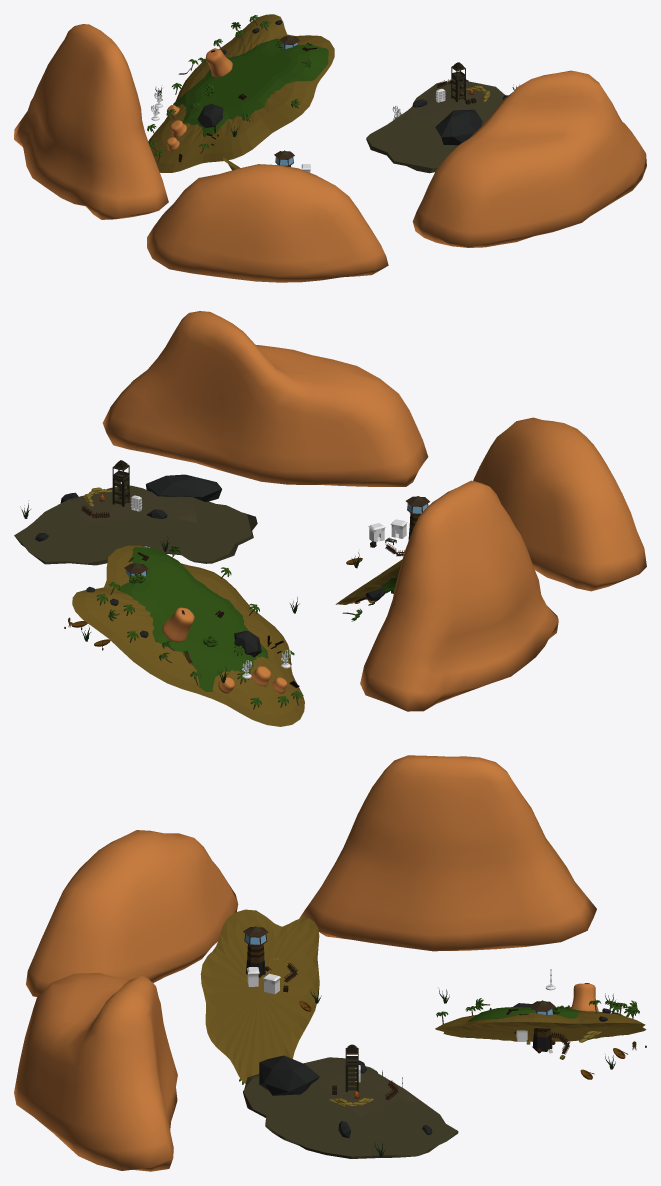
File: isla tropical.fbx
The picture shows the model from 3 angles, top to bottom: view 1: azimuth 30°, elevation 25°; view 2: azimuth 150°, elevation 25°; view 3: azimuth 270°, elevation 25°; orthographic projection. The views are drawn at different scales.
Visible parts, largest first — view 1: Montañas, Isla3, Isla1, roca005, Monticulo002, Torre de Madera, roca011; view 2: Montañas, Isla3, Isla1, Monticulo002, roca005, Isla2, Torre de Madera; view 3: Montañas, Isla2, Isla1, Isla3, roca005, Torre, Torre001, Monticulo002, Torre de Madera.
Part boxes in pixels (x1=…): Montañas: x1=14, y1=24, x2=646, y2=282; Isla3: x1=148, y1=14, x2=334, y2=172; Isla1: x1=366, y1=81, x2=505, y2=173; roca005: x1=435, y1=109, x2=482, y2=145; Monticulo002: x1=166, y1=48, x2=232, y2=150; Torre de Madera: x1=451, y1=62, x2=465, y2=101; roca011: x1=197, y1=103, x2=223, y2=127; Montañas: x1=102, y1=311, x2=646, y2=711; Isla3: x1=72, y1=545, x2=304, y2=726; Isla1: x1=14, y1=485, x2=257, y2=565; Monticulo002: x1=162, y1=607, x2=287, y2=693; roca005: x1=146, y1=474, x2=221, y2=502; Isla2: x1=335, y1=559, x2=402, y2=604; Torre de Madera: x1=112, y1=460, x2=129, y2=506; Montañas: x1=14, y1=755, x2=596, y2=1171; Isla2: x1=200, y1=909, x2=319, y2=1083; Isla1: x1=243, y1=1057, x2=458, y2=1158; Isla3: x1=435, y1=1007, x2=646, y2=1041; roca005: x1=259, y1=1055, x2=319, y2=1095; Torre: x1=243, y1=926, x2=268, y2=977; Torre001: x1=530, y1=1000, x2=555, y2=1051; Monticulo002: x1=571, y1=983, x2=598, y2=1011; Torre de Madera: x1=345, y1=1044, x2=358, y2=1091.
Size of the model in its own units: 61.65 by 24.26 by 57.97.
